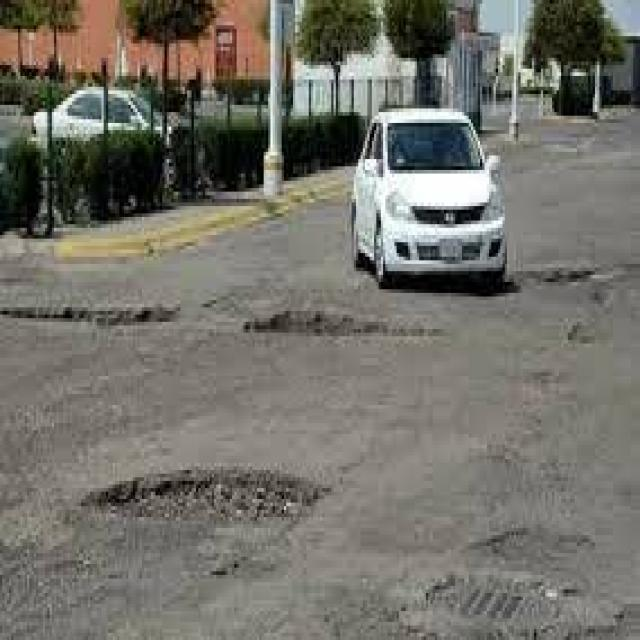Buraco: (74, 465, 337, 526), (240, 308, 448, 340), (0, 302, 183, 328), (509, 261, 638, 290)
